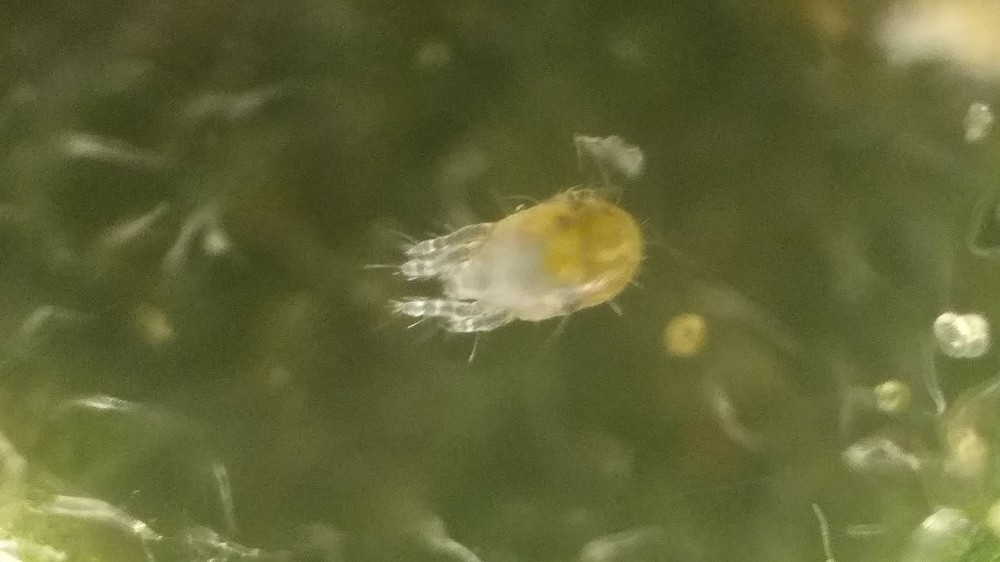Aracnido Rojo: (366, 154, 668, 370)
